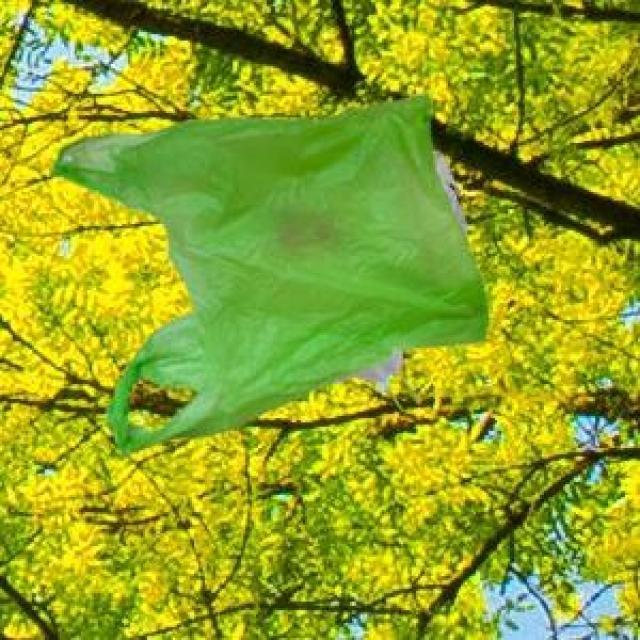waste: (55, 99, 484, 452)
